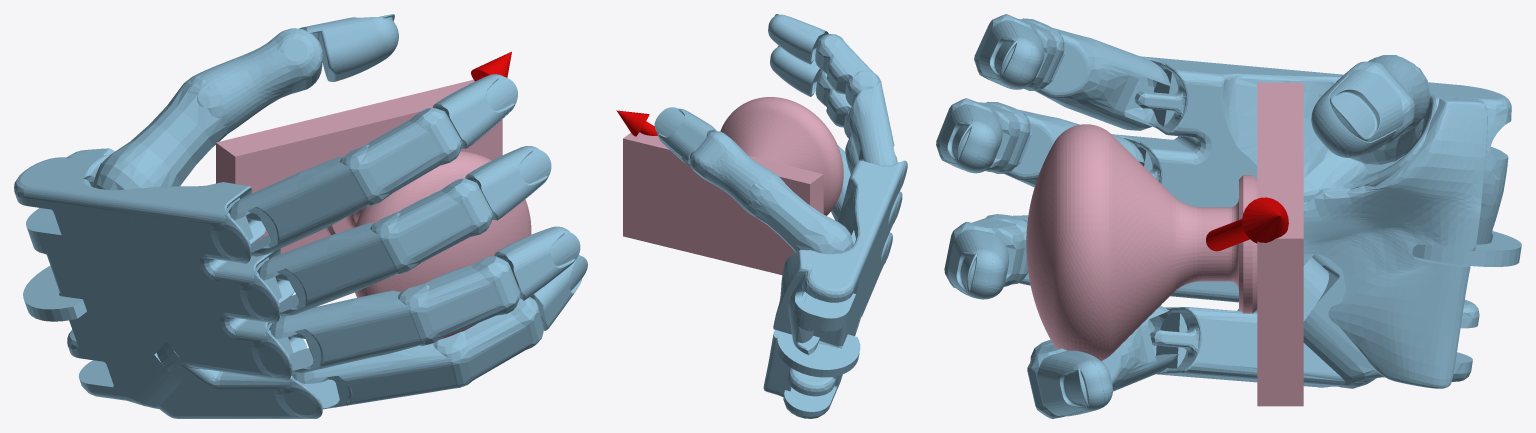
3 renders of one model, left to right at view 1: azimuth 30°, elevation 25°; view 2: azimuth 150°, elevation 25°; view 3: azimuth 270°, elevation 25°, orthographic. The views are drawn at different scales.
Parts seen in each view (by area): view 1: world, door_knob.stl; view 2: world, door_knob.stl; view 3: world, door_knob.stl.
Boxes of the visible parts, <box> form: world: <box>14,14,587,418</box>; door_knob.stl: <box>216,79,531,339</box>; world: <box>616,14,907,418</box>; door_knob.stl: <box>623,97,843,274</box>; world: <box>936,14,1521,418</box>; door_knob.stl: <box>1026,82,1303,406</box>.
Size of the model in its own units: 0.1551 by 0.1391 by 0.1585.
